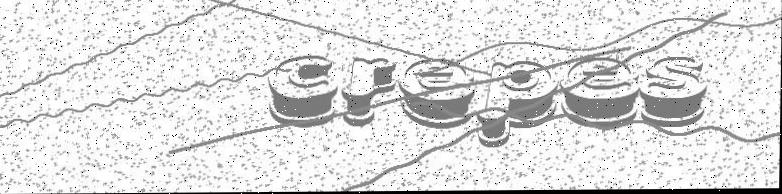c: (267, 55, 339, 129)
e: (558, 56, 640, 130), (398, 58, 474, 130)
p: (475, 61, 558, 149)
r: (341, 58, 397, 128)
s: (639, 57, 708, 129)
